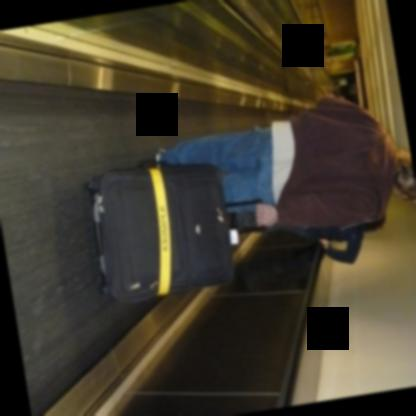suitcase: (83, 159, 265, 303)
